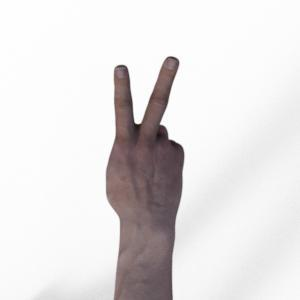scissors: (107, 57, 184, 300)
